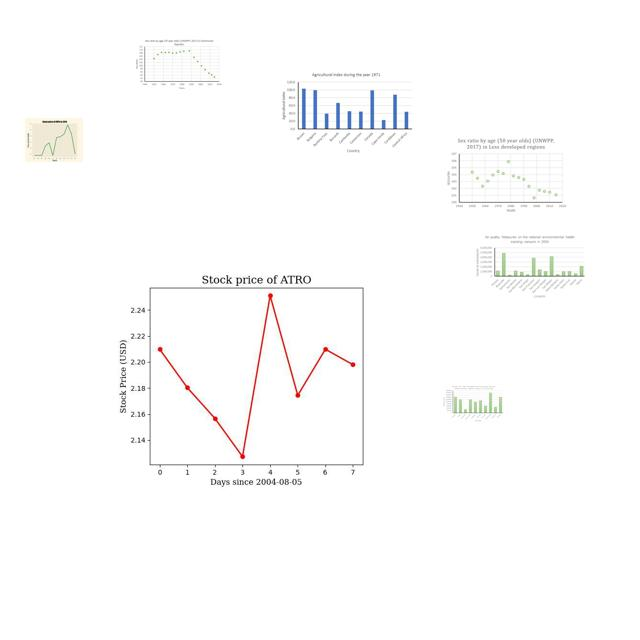Graph: (99, 260, 406, 490), (279, 71, 414, 153), (444, 136, 568, 214), (473, 233, 587, 300), (134, 38, 223, 90), (25, 118, 83, 162), (443, 385, 504, 422)
